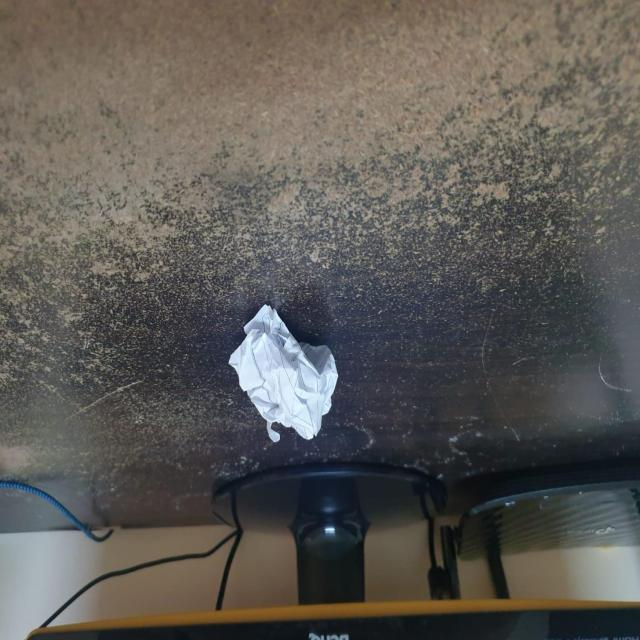kertas: (230, 296, 341, 448)
